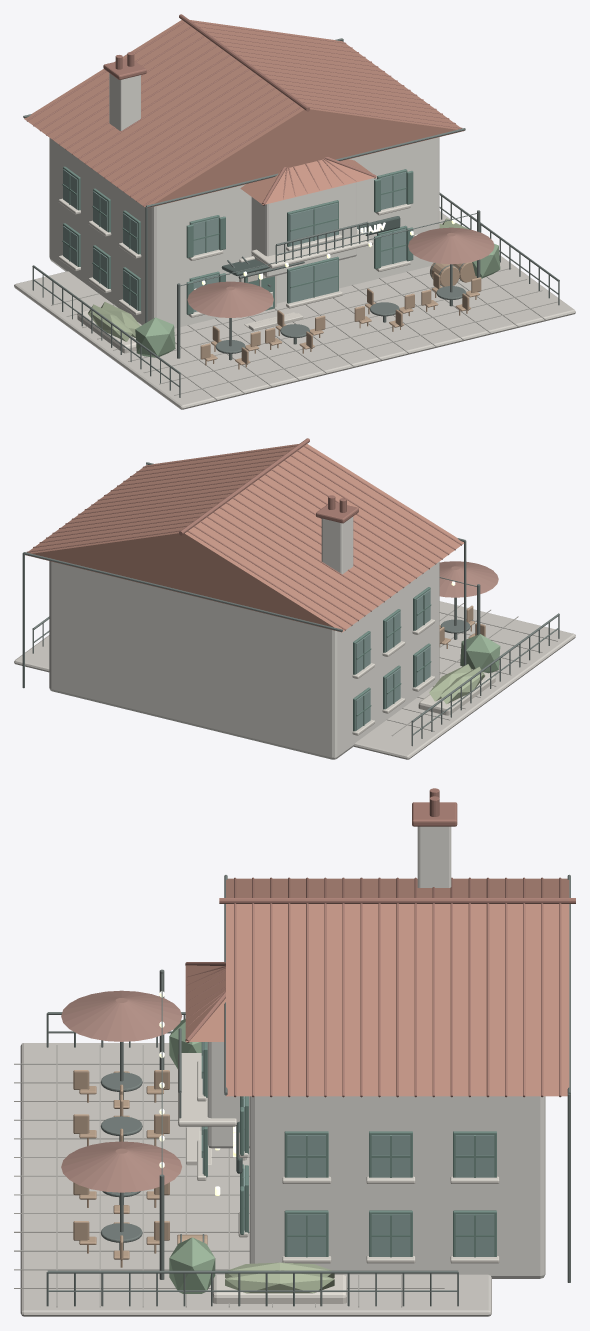
The model's file is villa-le-bec.glb.
3 views of the same model, one above another, from view 1: azimuth 30°, elevation 25°; view 2: azimuth 150°, elevation 25°; view 3: azimuth 270°, elevation 25° (orthographic). The views are drawn at different scales.
Parts seen in each view (by area): view 1: villa-le-bec; view 2: villa-le-bec; view 3: villa-le-bec.
Boxes of the visible parts, x1,y1,x2,y2 form: villa-le-bec: [14, 14, 575, 409]; villa-le-bec: [14, 438, 575, 759]; villa-le-bec: [14, 788, 575, 1316].
Size of the model in its own units: 19 by 10.51 by 16.7.
